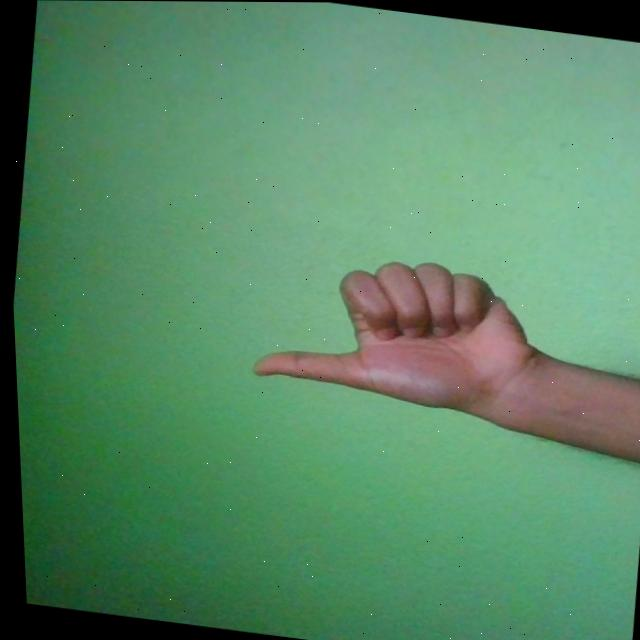Good Job: (240, 239, 550, 419)
